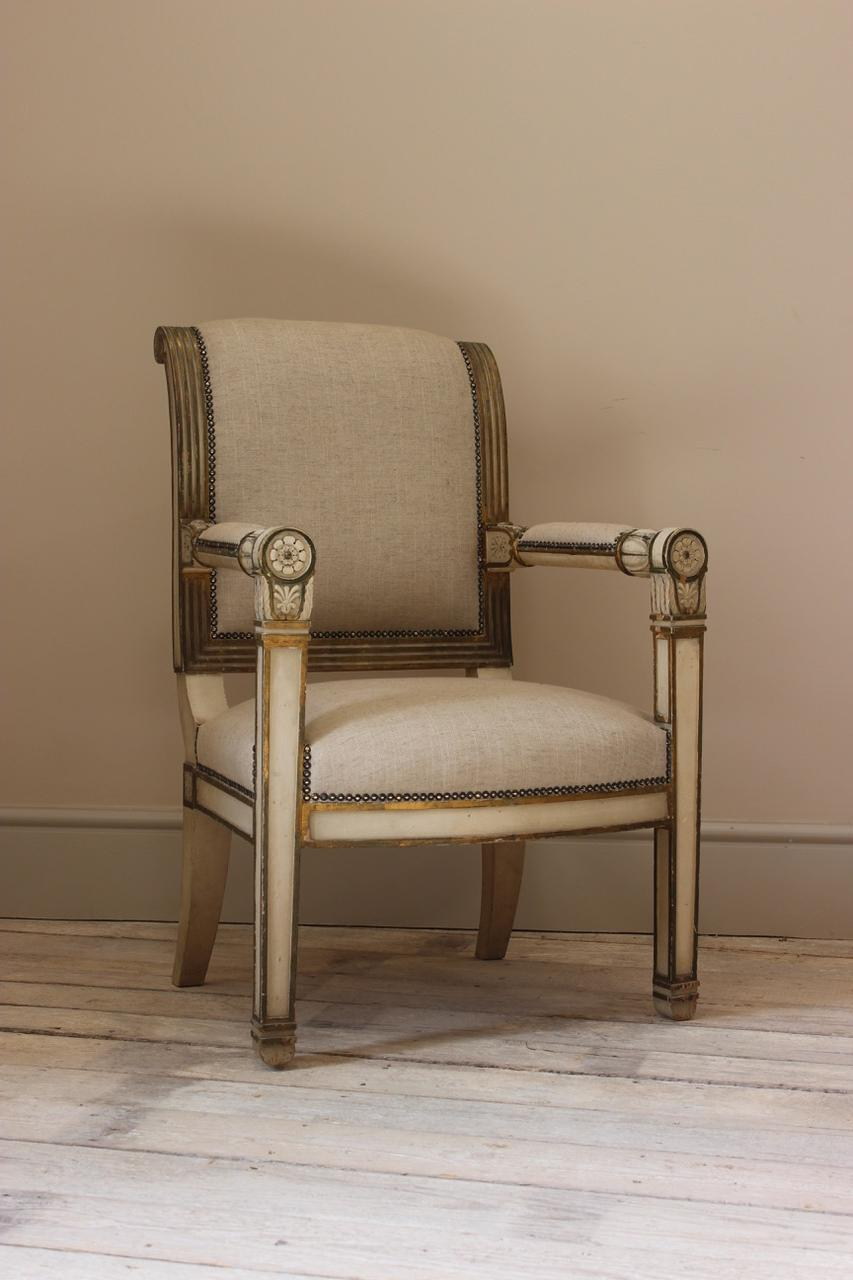chairs: (142, 305, 713, 1069)
